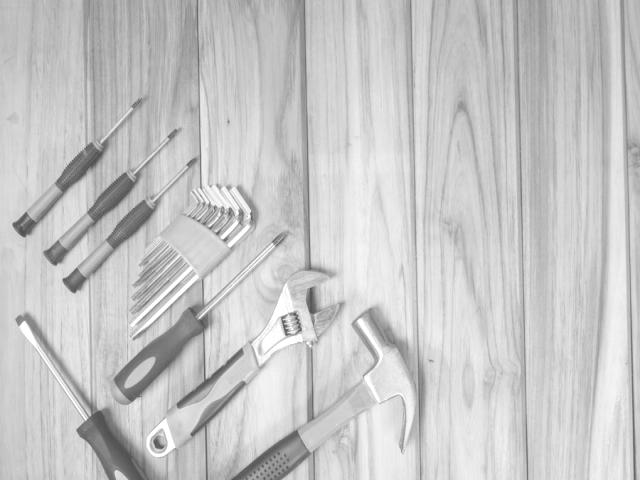Adjustable spanner: (146, 271, 339, 457)
Hammer: (234, 311, 416, 480)
Screwdriver: (110, 234, 286, 405), (16, 315, 148, 480), (44, 129, 178, 265), (12, 97, 142, 237), (62, 158, 196, 292)
